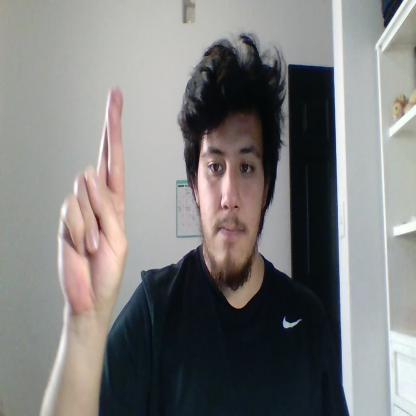R: (58, 86, 128, 307)
